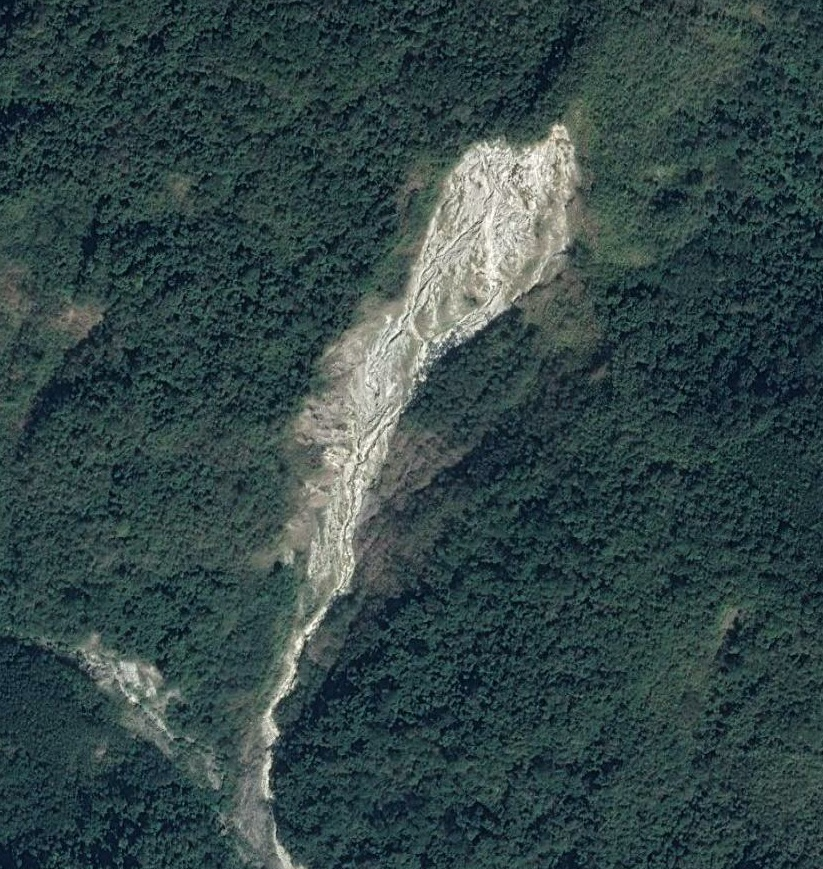slope: (244, 123, 595, 809), (78, 640, 177, 753)
